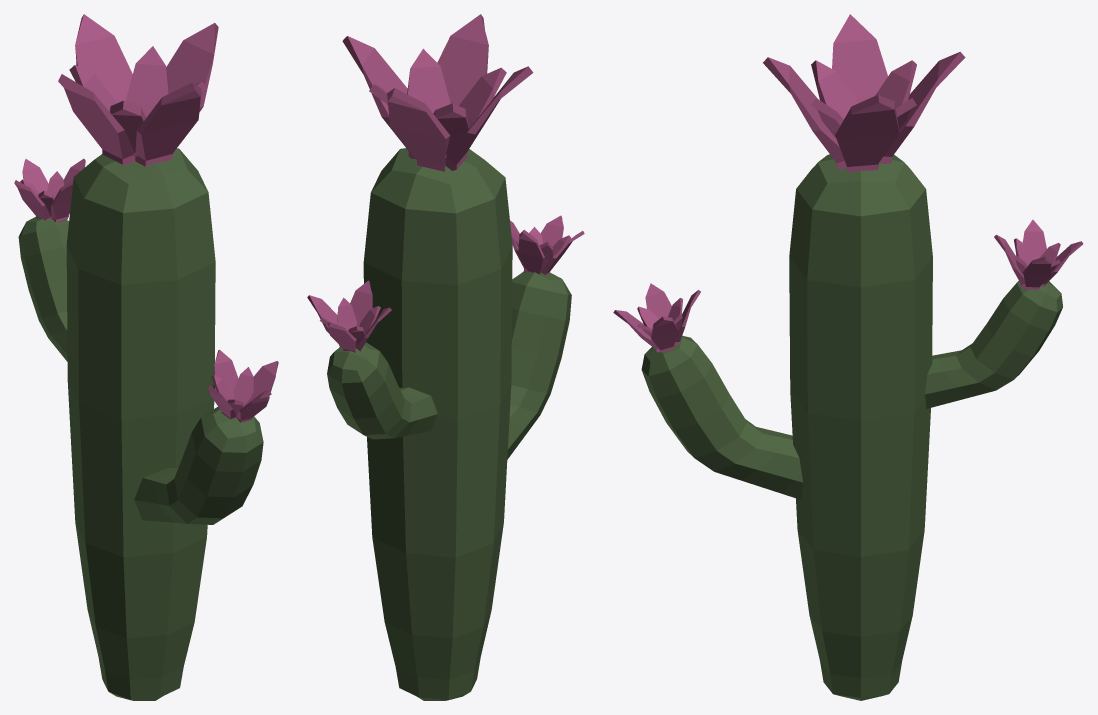
File: CactusFlowers_3.glb
The picture shows the model from 3 angles, left to right: view 1: azimuth 30°, elevation 25°; view 2: azimuth 150°, elevation 25°; view 3: azimuth 270°, elevation 25°; orthographic projection.
Parts seen in each view (by area): view 1: CactusFlowers_3_Cube.002; view 2: CactusFlowers_3_Cube.002; view 3: CactusFlowers_3_Cube.002.
Part boxes in pixels (bbox=[...]): CactusFlowers_3_Cube.002: bbox=[14, 14, 278, 700]; CactusFlowers_3_Cube.002: bbox=[307, 14, 584, 700]; CactusFlowers_3_Cube.002: bbox=[613, 14, 1083, 700].
Bounding box in the file's own units: 0.4774 × 1.67 × 1.12.
